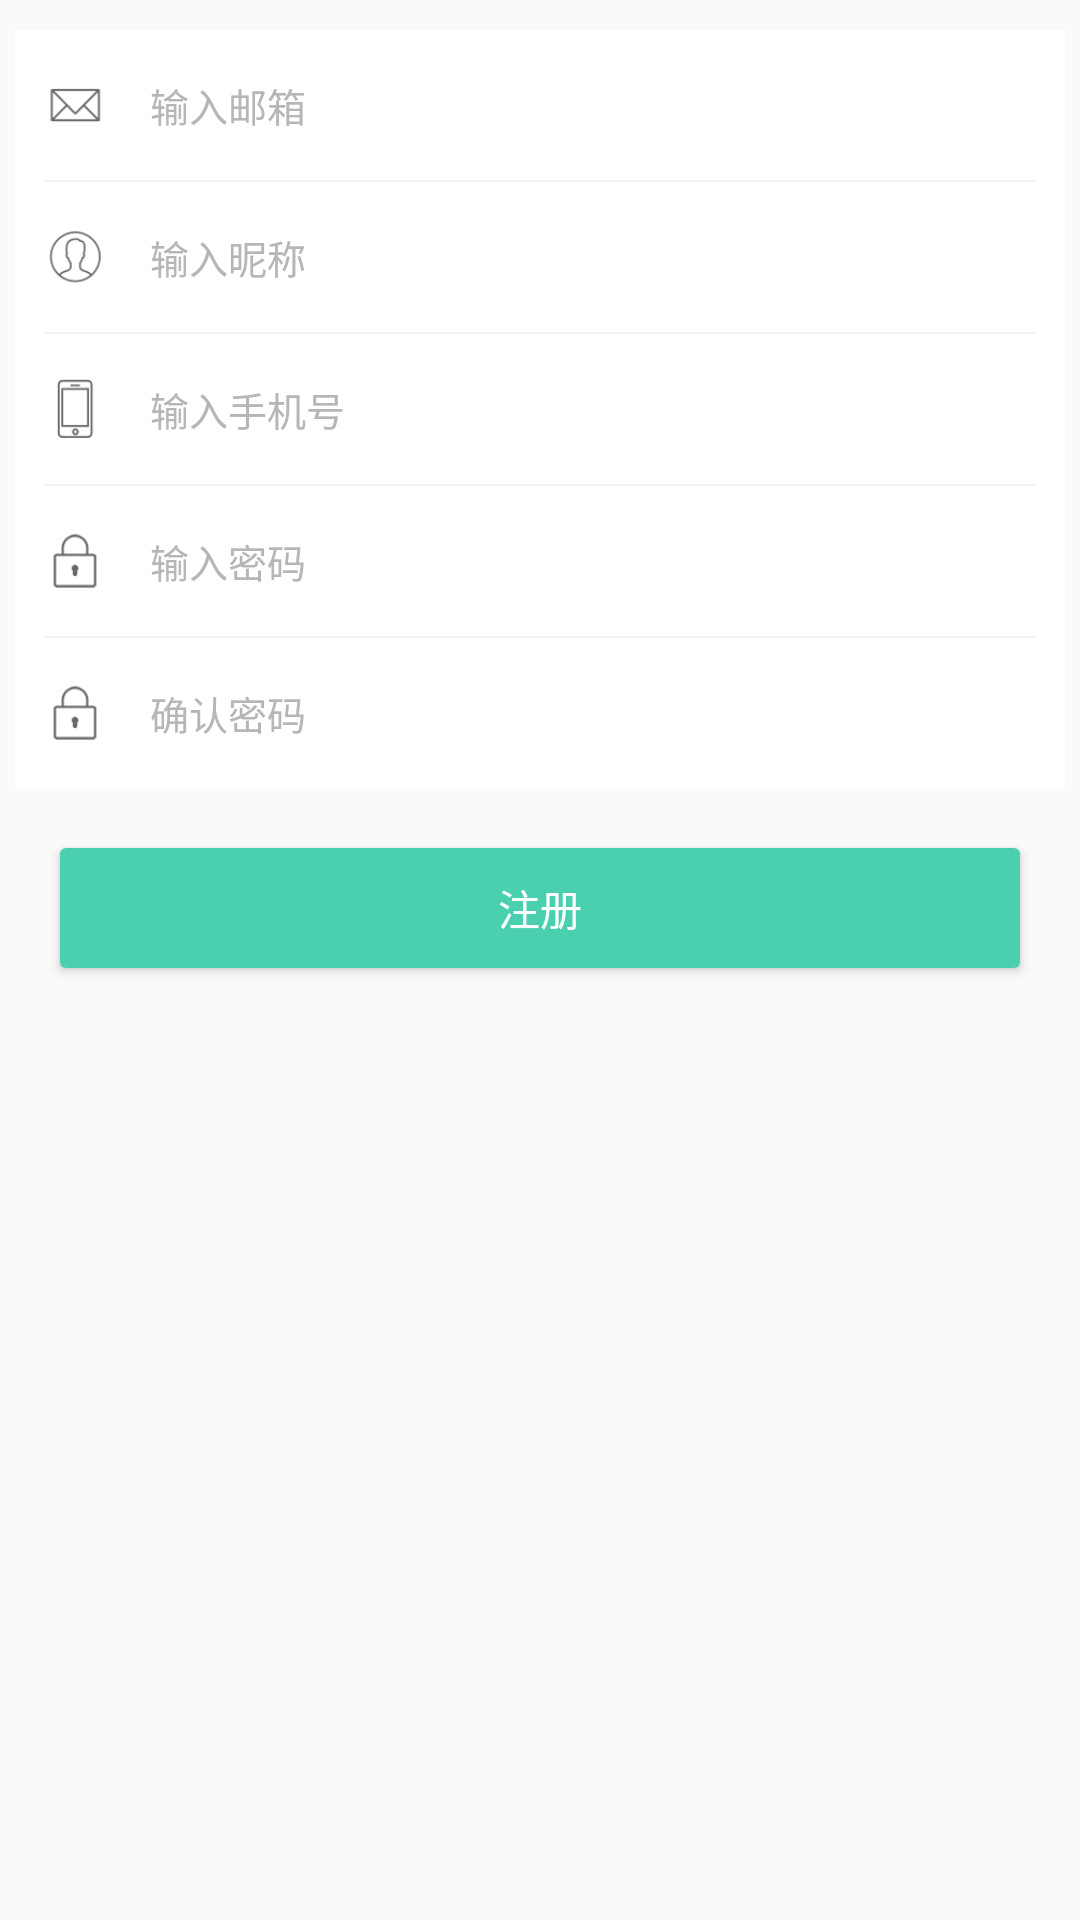

Where icons sit on this 1080px x 1920px app screen, as (x1, y1, x2, y2):
email: (50, 89, 101, 122)
nickname: (49, 231, 101, 283)
password: (53, 534, 97, 588), (53, 686, 97, 740)
phone: (57, 379, 93, 438)
